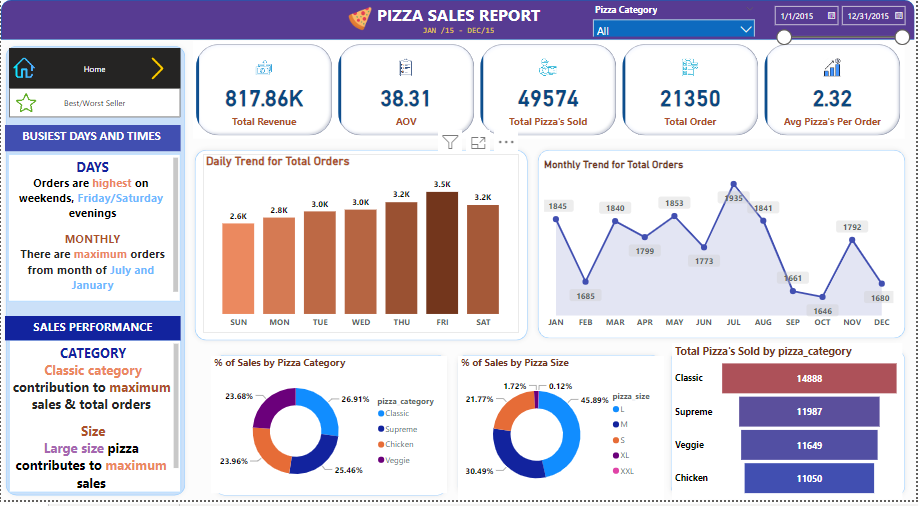

Layout of this report page (visuals, bound fields, positions):
{"tool":"powerbi","page":{"name":"Home ","canvas":[1500,820],"ordinal":0},"visuals":[{"type":"shape","box":[0,66.7,310,753.3],"z":0},{"type":"cardVisual","fields":{"Data":["pizza_sales.Total Revenue","pizza_sales.AOV","pizza_sales.Total Pizza's Sold","pizza_sales.Total Order","pizza_sales.Avg Pizza's Per Order"]},"box":[315,66.7,1166.7,160],"z":1000},{"type":"shape","box":[0,0,1498.3,65],"z":2000},{"type":"textbox","box":[601.4,0,297.1,48.6],"z":3000},{"type":"textbox","box":[677.1,34.3,145.7,31.4],"z":4000},{"type":"image","box":[564.3,0,48.6,60],"z":5000},{"type":"shape","box":[310,238.3,561.7,328.3],"z":6000},{"type":"columnChart","title":"Daily Trend for Total Orders","fields":{"Category":["pizza_sales.Order Day"],"Y":["pizza_sales.Total Order"]},"box":[331.7,253.3,518.3,293.3],"z":7000},{"type":"shape","box":[871.7,238.3,618.3,325],"z":8000},{"type":"areaChart","title":"Monthly Trend for Total Orders ","fields":{"Y":["pizza_sales.Total Order"],"Category":["pizza_sales.Order Month"]},"box":[885,258.3,583.3,288.3],"z":9000},{"type":"shape","box":[345,573.3,393.3,246.7],"z":10000},{"type":"shape","box":[741.7,573.3,346.7,246.7],"z":11000},{"type":"shape","box":[1090,566.7,400,253.3],"z":12000},{"type":"donutChart","title":"% of Sales by Pizza Category","fields":{"Category":["pizza_sales.pizza_category"],"Y":["pizza_sales.Total Revenue"]},"box":[345,583.3,386.7,225],"z":13000},{"type":"donutChart","title":"% of Sales by Pizza Size","fields":{"Y":["pizza_sales.Total Revenue"],"Category":["pizza_sales.pizza_size"]},"box":[750,583.3,338.3,236.7],"z":14000},{"type":"funnel","fields":{"Category":["pizza_sales.pizza_category"],"Y":["pizza_sales.Total Pizza's Sold"]},"box":[1100,563.3,378.3,256.7],"z":15000},{"type":"textbox","box":[6.7,205,288.3,43.3],"z":16000},{"type":"textbox","box":[11.7,253.3,283.3,241.7],"z":17000},{"type":"textbox","box":[13.3,558.3,281.7,250],"z":18000},{"type":"textbox","box":[6.7,518.3,288.3,40],"z":19000},{"type":"slicer","fields":{"Values":["pizza_sales.pizza_category"]},"box":[961.7,0,285,60],"z":20000},{"type":"slicer","fields":{"Values":["pizza_sales.Order_date"]},"box":[1256.7,0,243.3,78.3],"z":21000},{"type":"pageNavigator","box":[13.3,78.3,281.7,66.7],"z":21001},{"type":"pageNavigator","box":[13.3,145,281.7,48.3],"z":21002},{"type":"image","box":[231.7,88.3,50,46.7],"z":21003},{"type":"image","box":[11.7,88.3,51.7,45],"z":21004},{"type":"image","box":[20,141.7,43.3,55],"z":21005}]}

Visuals, with their boxes in screenshot pixels (x1, y1, x2, y2), scaled from the page's 1500x820 canvas onto the 918x506 screenshot:
shape: crop(0, 41, 190, 505)
cardVisual - pizza_sales.Total Revenue x pizza_sales.AOV: crop(193, 41, 907, 140)
shape: crop(0, 0, 917, 40)
textbox: crop(368, 0, 550, 30)
textbox: crop(414, 21, 504, 41)
image: crop(345, 0, 375, 37)
shape: crop(190, 147, 533, 350)
"Daily Trend for Total Orders" columnChart: crop(203, 156, 520, 337)
shape: crop(533, 147, 912, 348)
"Monthly Trend for Total Orders " areaChart: crop(542, 159, 899, 337)
shape: crop(211, 354, 452, 505)
shape: crop(454, 354, 666, 505)
shape: crop(667, 350, 912, 505)
"% of Sales by Pizza Category" donutChart: crop(211, 360, 448, 499)
"% of Sales by Pizza Size" donutChart: crop(459, 360, 666, 505)
funnel - pizza_sales.pizza_category x pizza_sales.Total Pizza's Sold: crop(673, 348, 905, 505)
textbox: crop(4, 126, 181, 153)
textbox: crop(7, 156, 181, 305)
textbox: crop(8, 345, 181, 499)
textbox: crop(4, 320, 181, 345)
slicer - pizza_sales.pizza_category: crop(589, 0, 763, 37)
slicer - pizza_sales.Order_date: crop(769, 0, 917, 48)
pageNavigator: crop(8, 48, 181, 89)
pageNavigator: crop(8, 89, 181, 119)
image: crop(142, 54, 172, 83)
image: crop(7, 54, 39, 82)
image: crop(12, 87, 39, 121)
